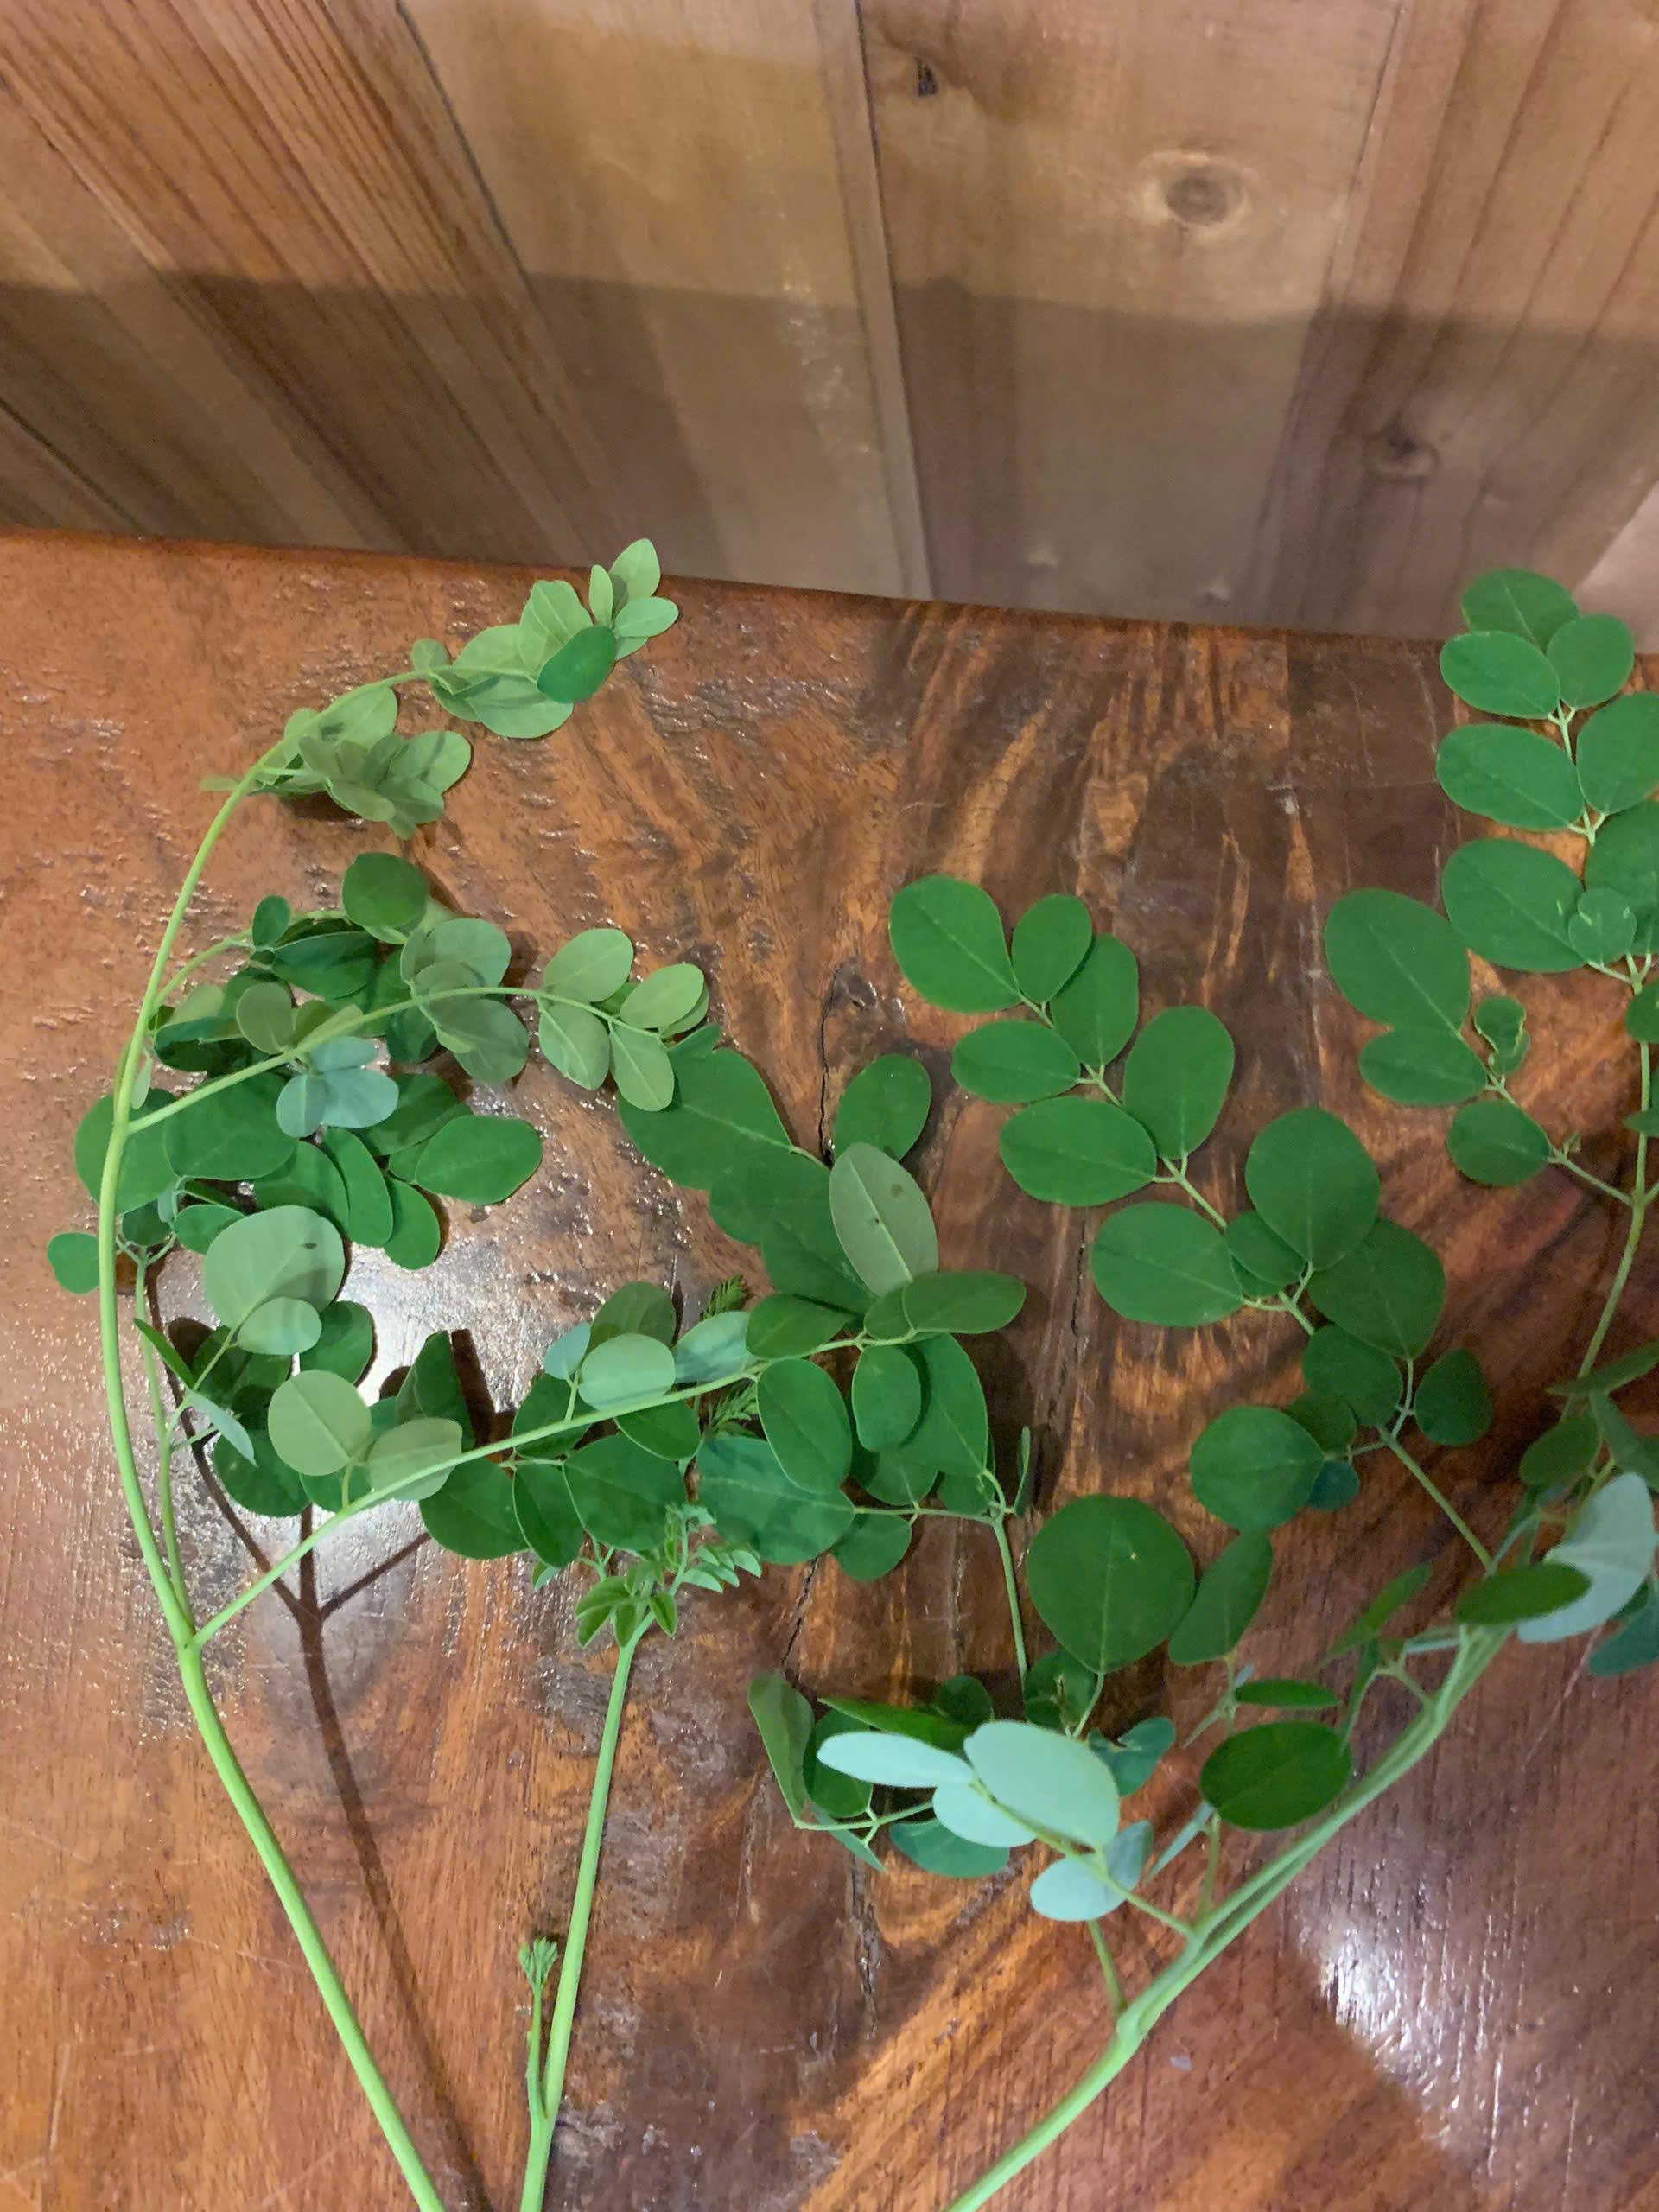Huu co: (125, 557, 1624, 1947)
